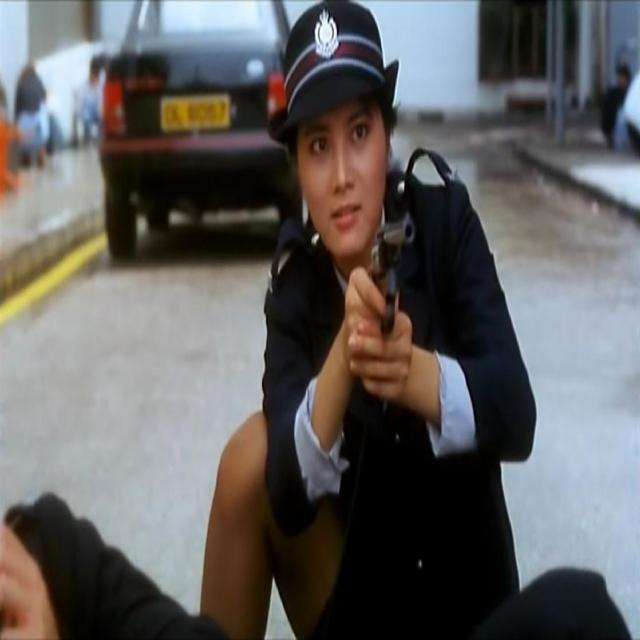gun-knife-thesis - v11 Yolov5 augmented: (361, 207, 414, 361)
